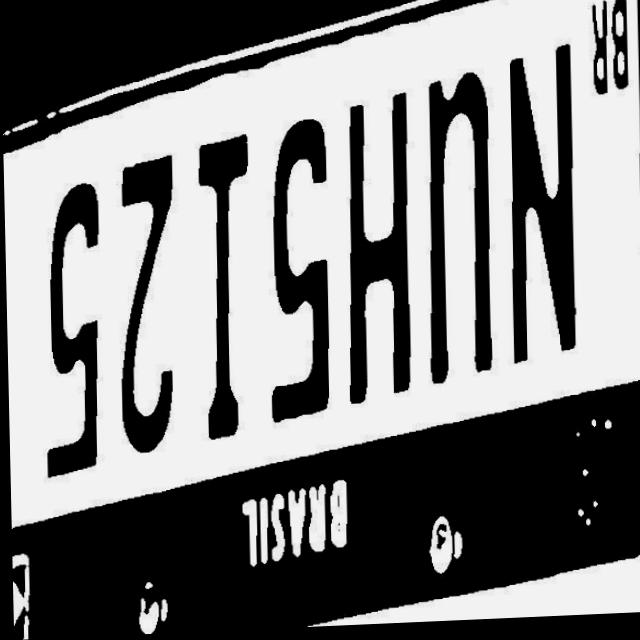2: (99, 168, 185, 483)
5: (252, 136, 333, 452), (29, 201, 102, 500)
h: (332, 111, 417, 428)
i: (182, 150, 255, 466)
n: (491, 47, 577, 387)
u: (412, 78, 497, 411)
